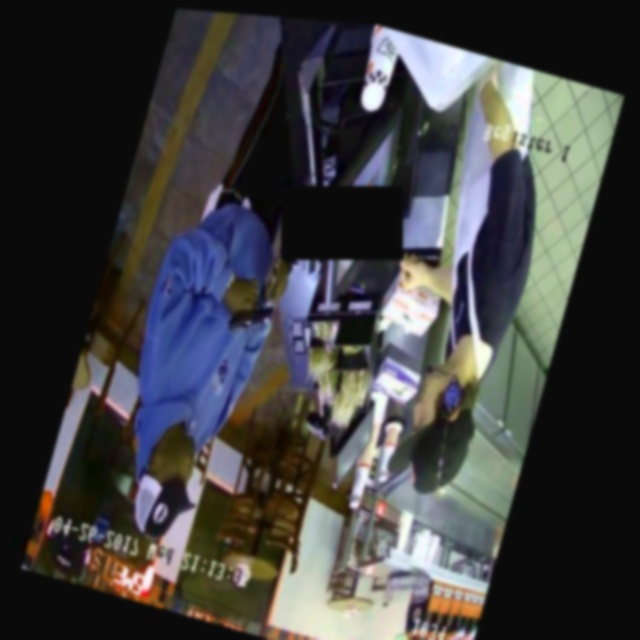gun: (210, 276, 289, 351)
